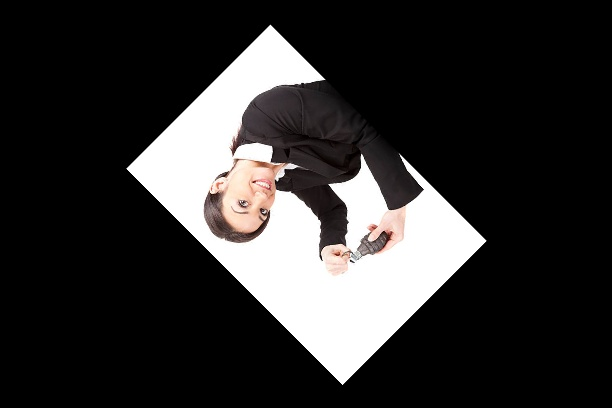e1: (340, 228, 387, 270)
